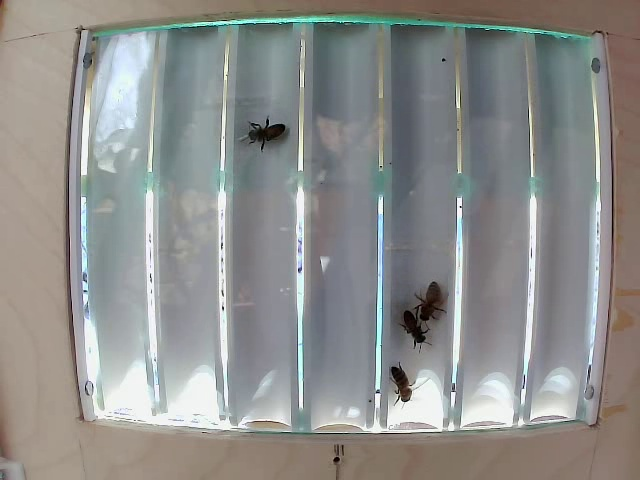bee: (243, 110, 301, 153), (410, 269, 444, 323), (393, 299, 434, 342), (390, 356, 422, 401)
